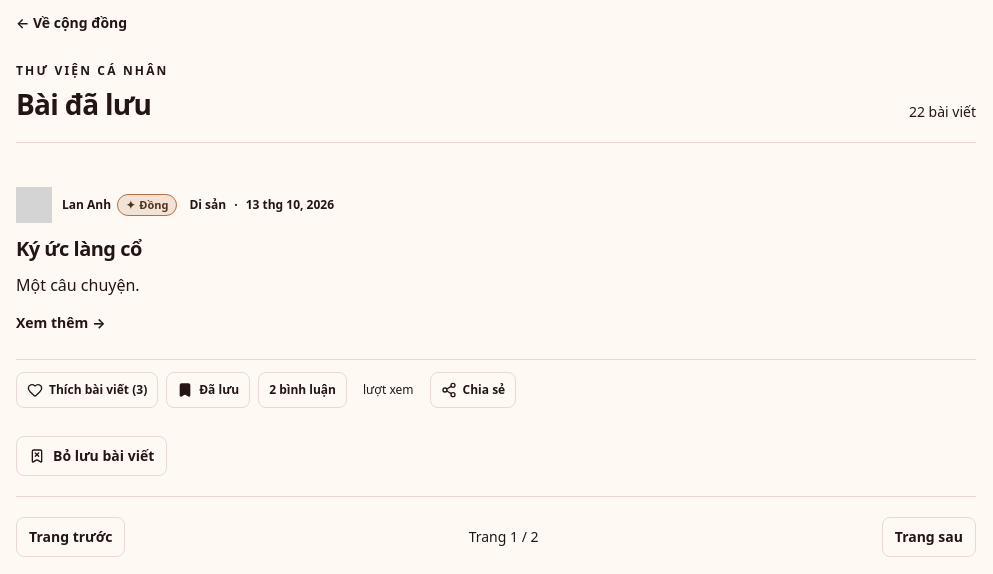
Scenario: CommunitySavedPosts › lists saved published posts, removes bookmarks, and paginates
This screenshot has width=993, height=574.
Expected: the heading "Bài đã lưu" is shown, [16,87,168,122]
Expected: the heading "Ký ức làng cổ" is shown, [16,235,142,262]
Step 1. Click the button with aria-label "Bỏ lưu bài viết: Ký ức làng cổ" → (92, 456), box [16,436,167,476]
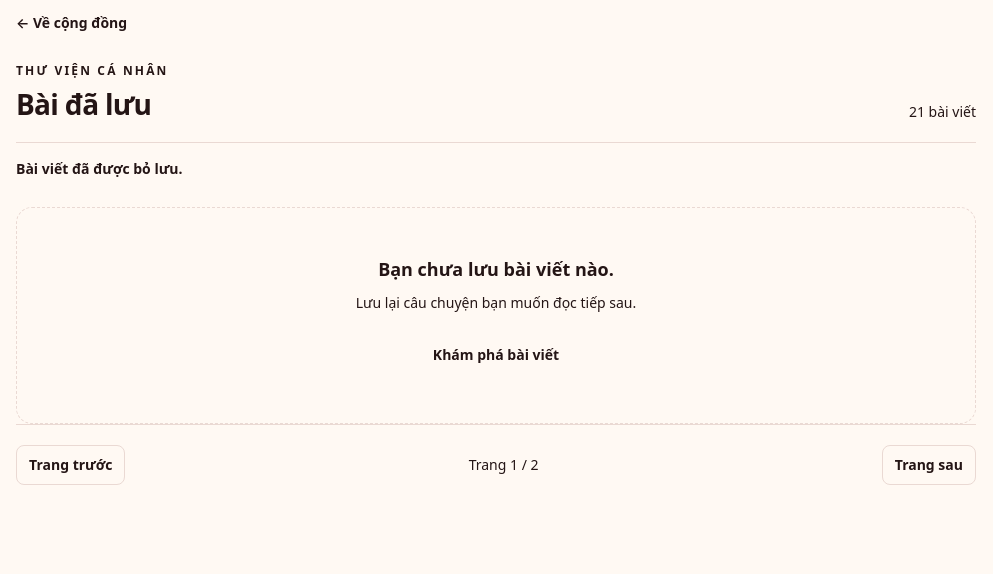
Expected: the text "Bài viết đã được bỏ lưu." is shown, [16,159,182,178]
